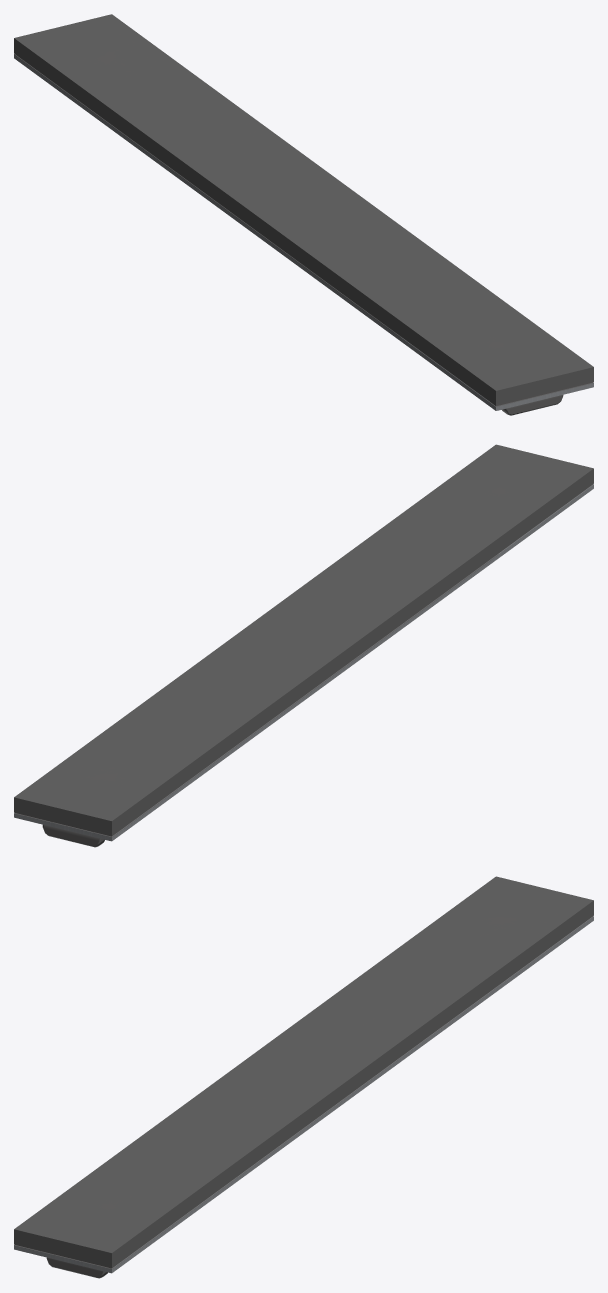
File: LightRod.fbx
3 views of the same model, one above another, from view 1: azimuth 30°, elevation 25°; view 2: azimuth 150°, elevation 25°; view 3: azimuth 330°, elevation 25° (orthographic).
Visible parts, largest first — view 1: LightRod; view 2: LightRod; view 3: LightRod.
Boxes of the visible parts, x1,y1,x2,y2 form: LightRod: (14,14,593,415); LightRod: (14,444,593,847); LightRod: (14,876,593,1278).
Bounding box in the file's own units: 32.59 × 12.71 × 278.
